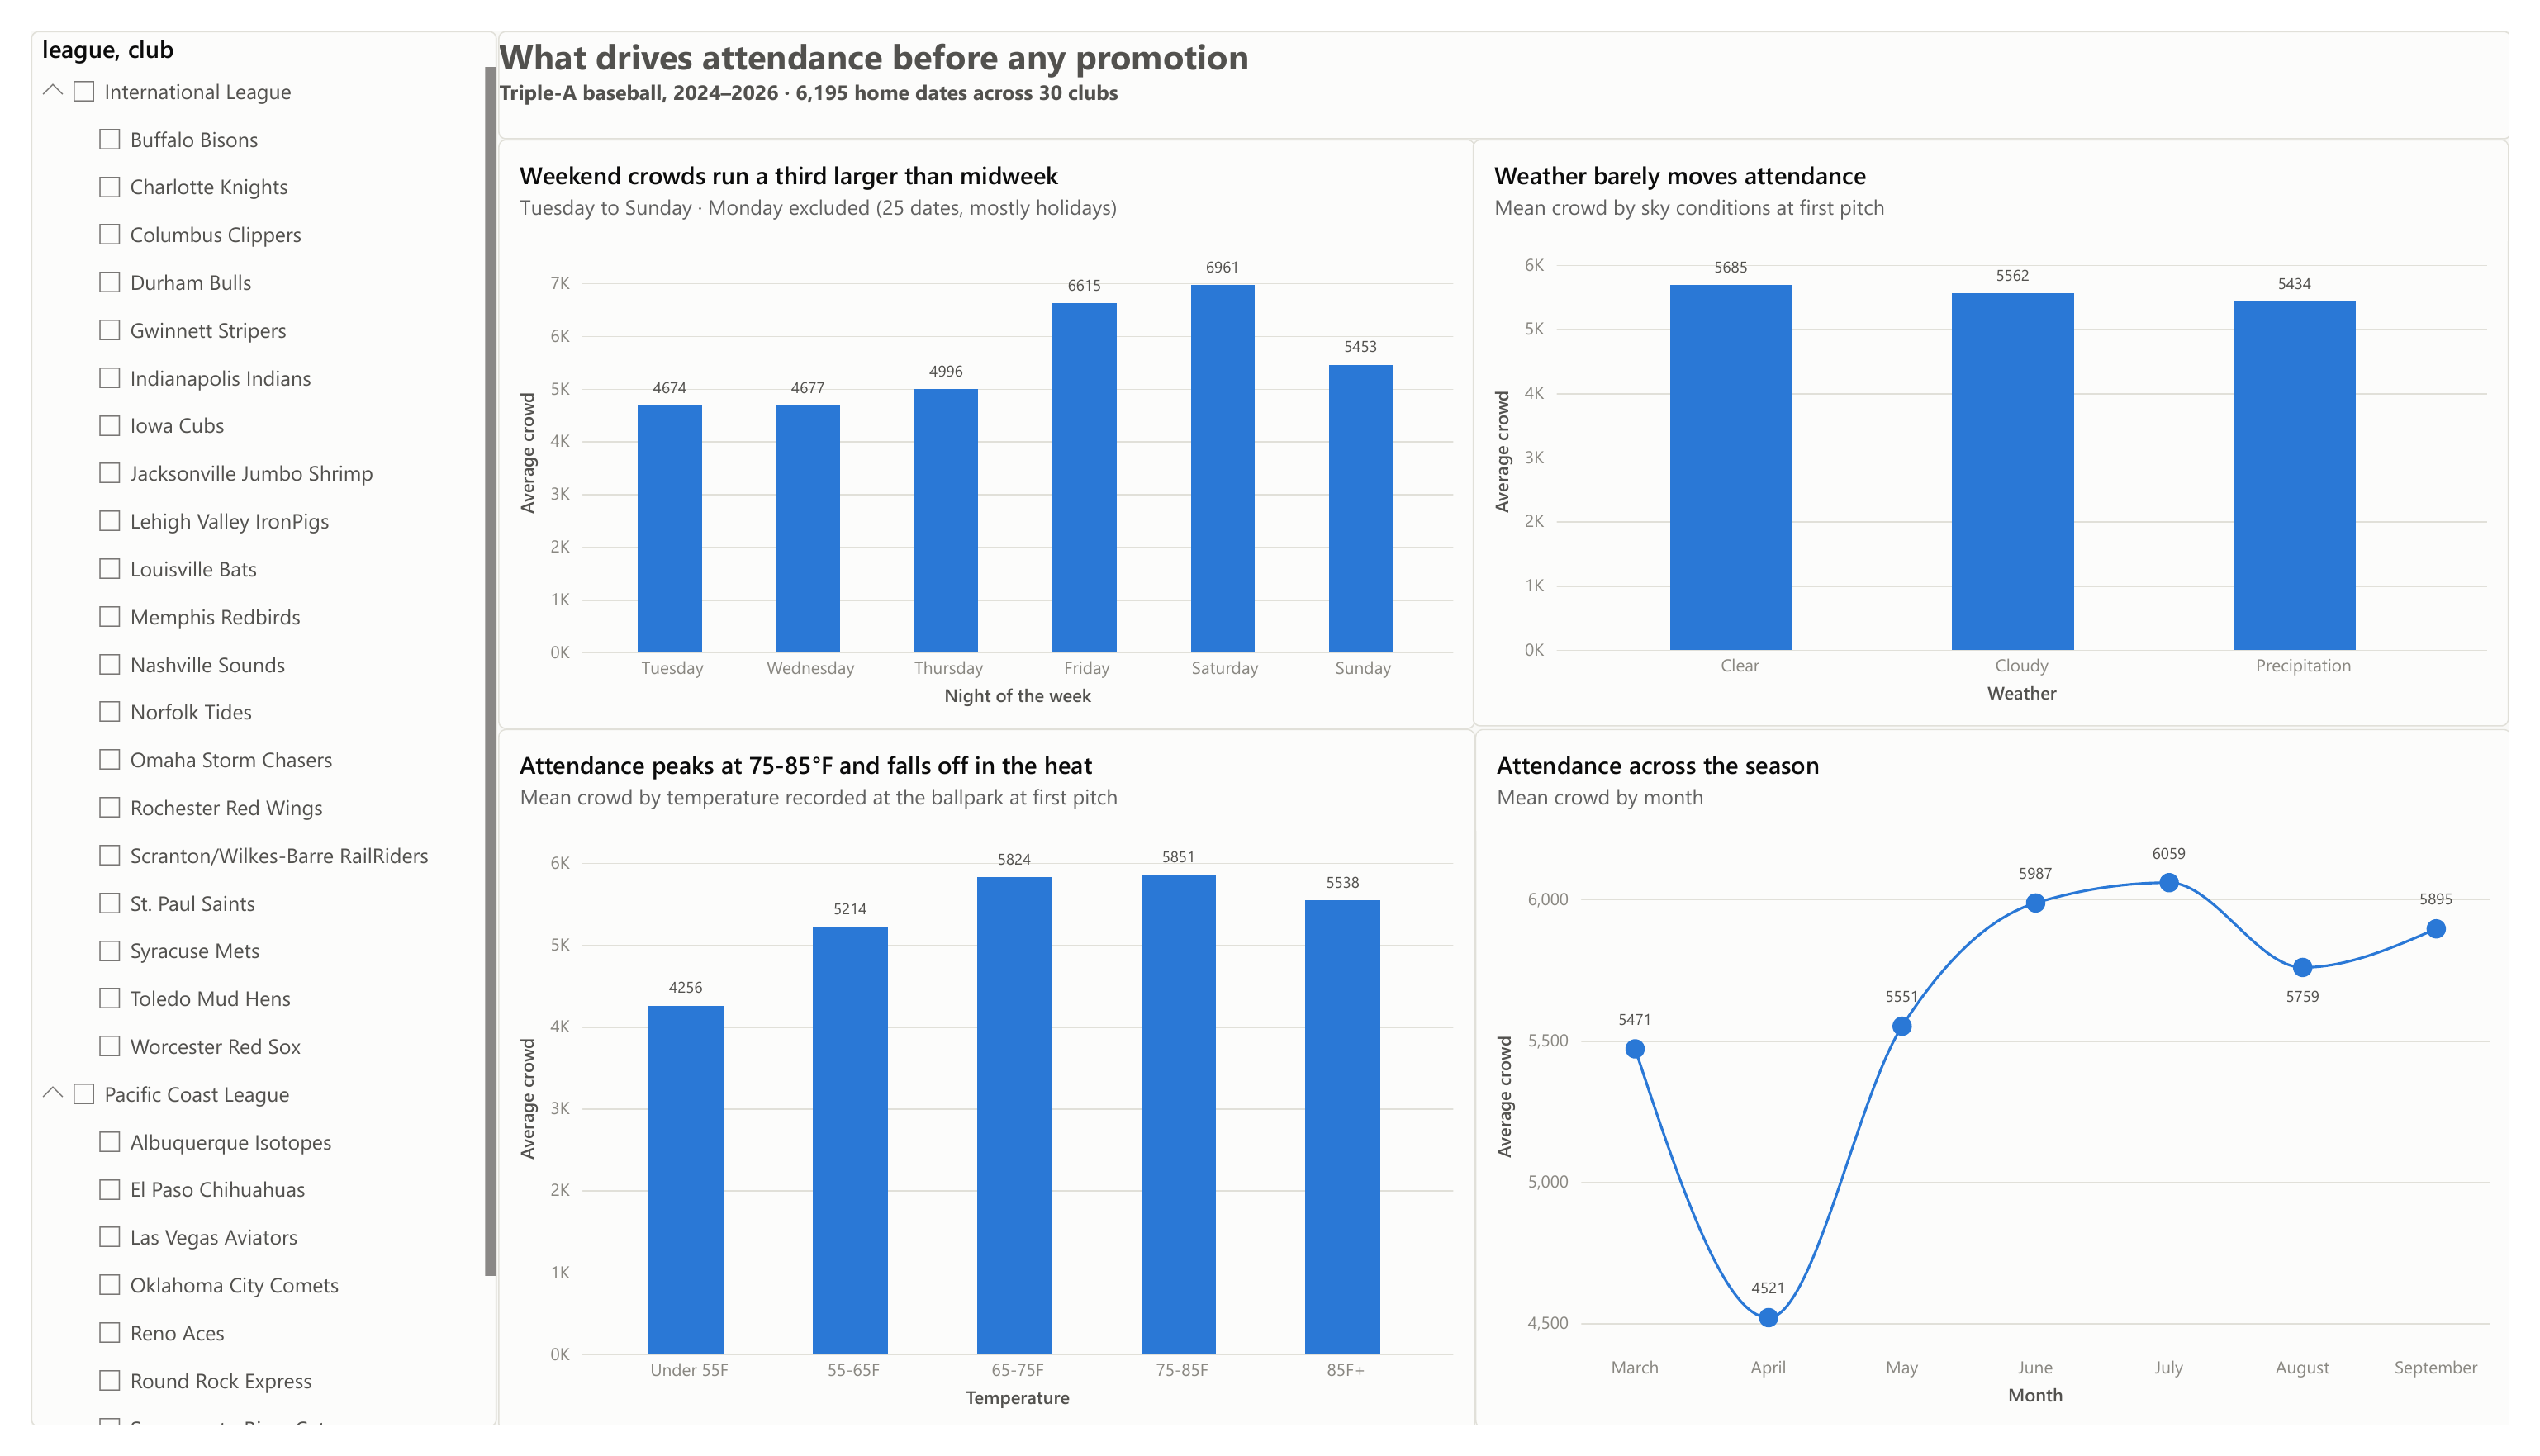

The dashboard page shown, as its layout file describes it:
{"tool":"powerbi","page":{"name":"Attendance Drivers","canvas":[1920,1080],"ordinal":1},"visuals":[{"type":"clusteredColumnChart","title":"Weekend crowds run a third larger than midweek","fields":{"Category":["dim_date.day_of_week"],"Y":["dim_date.Avg Attendance"]},"box":[361.5,83.7,757.8,457.5],"z":0},{"type":"clusteredColumnChart","title":"Weather barely moves attendance","fields":{"Category":["fct_home_date.weather_group"],"Y":["dim_date.Avg Attendance"]},"box":[1117.3,83.7,802.7,455.5],"z":1000},{"type":"clusteredColumnChart","title":"Attendance peaks at 75-85°F and falls off in the heat","fields":{"Category":["fct_home_date.temp_band"],"Y":["dim_date.Avg Attendance"]},"box":[361.5,541.3,757.8,543.3],"z":2000},{"type":"lineChart","title":"Attendance across the season","fields":{"Category":["dim_date.month_name"],"Y":["dim_date.Avg Attendance"]},"box":[1119.3,541.3,802.7,541.3],"z":3000},{"type":"slicer","fields":{"Values":["dim_club.league","dim_club.club"]},"box":[0,0,361.4,1081.9],"z":4000},{"type":"textbox","box":[361.5,0,1560.5,83.7],"z":5000}]}

Visuals, with their boxes on the page's 1920x1080 design canvas (x1, y1, x2, y2). These are canvas units, not pixel positions in the 2540x1456 screenshot, which may show the page scaled, cropped or inside an application window:
"Weekend crowds run a third larger than midweek" clusteredColumnChart: 362:84:1119:541
"Weather barely moves attendance" clusteredColumnChart: 1117:84:1920:539
"Attendance peaks at 75-85°F and falls off in the heat" clusteredColumnChart: 362:541:1119:1085
"Attendance across the season" lineChart: 1119:541:1922:1083
slicer - dim_club.league x dim_club.club: 0:0:361:1082
textbox: 362:0:1922:84
